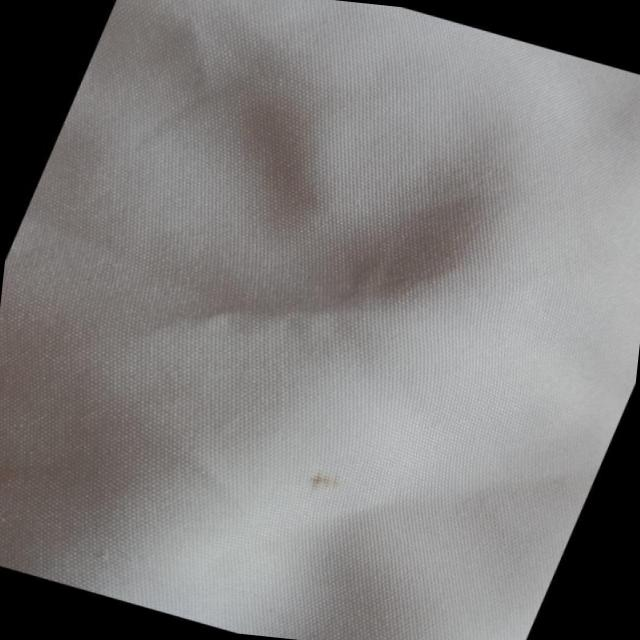stain: (282, 448, 366, 514)
